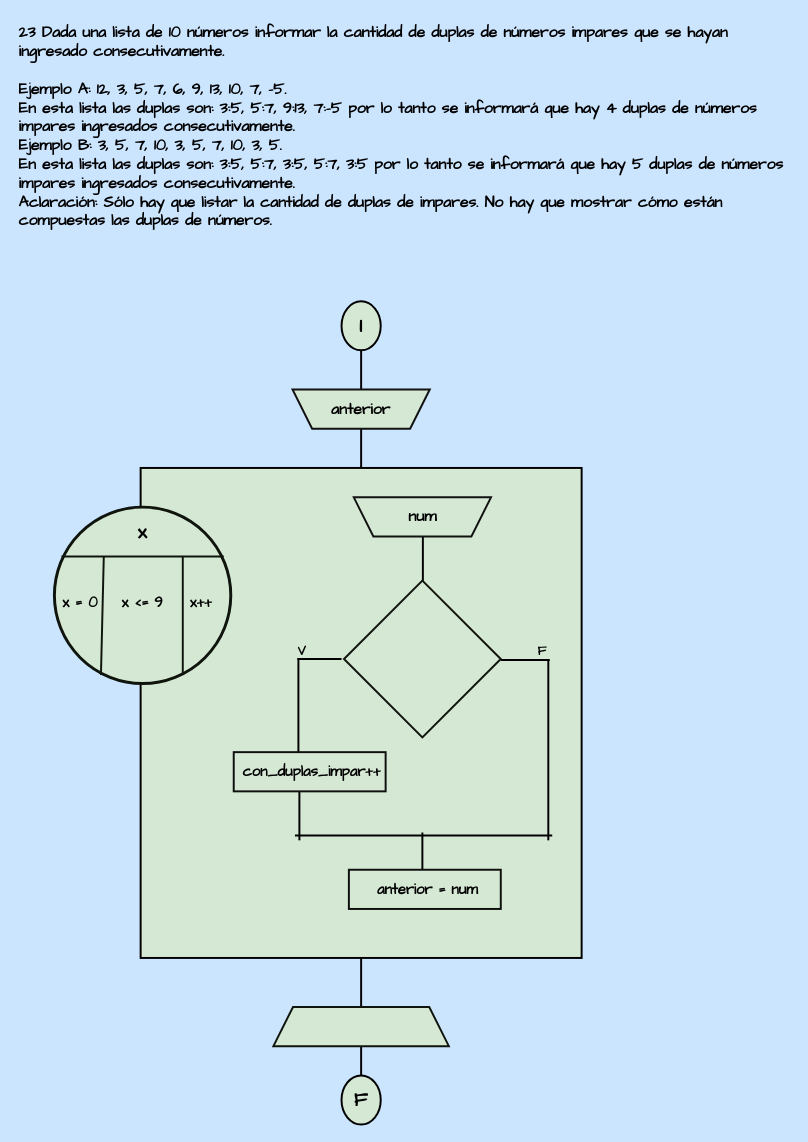
Some shapes in this 808 by 1142 pixel diagram are drawn without their labels. The shapes that lost their labels are listed below. From the top down, each one's centre as x and y in pixels, then its label:
At [422,658]: "num % 2 != 0 && anterior % 2 != 0".
At [360,1026]: "con_duplas_impar".
